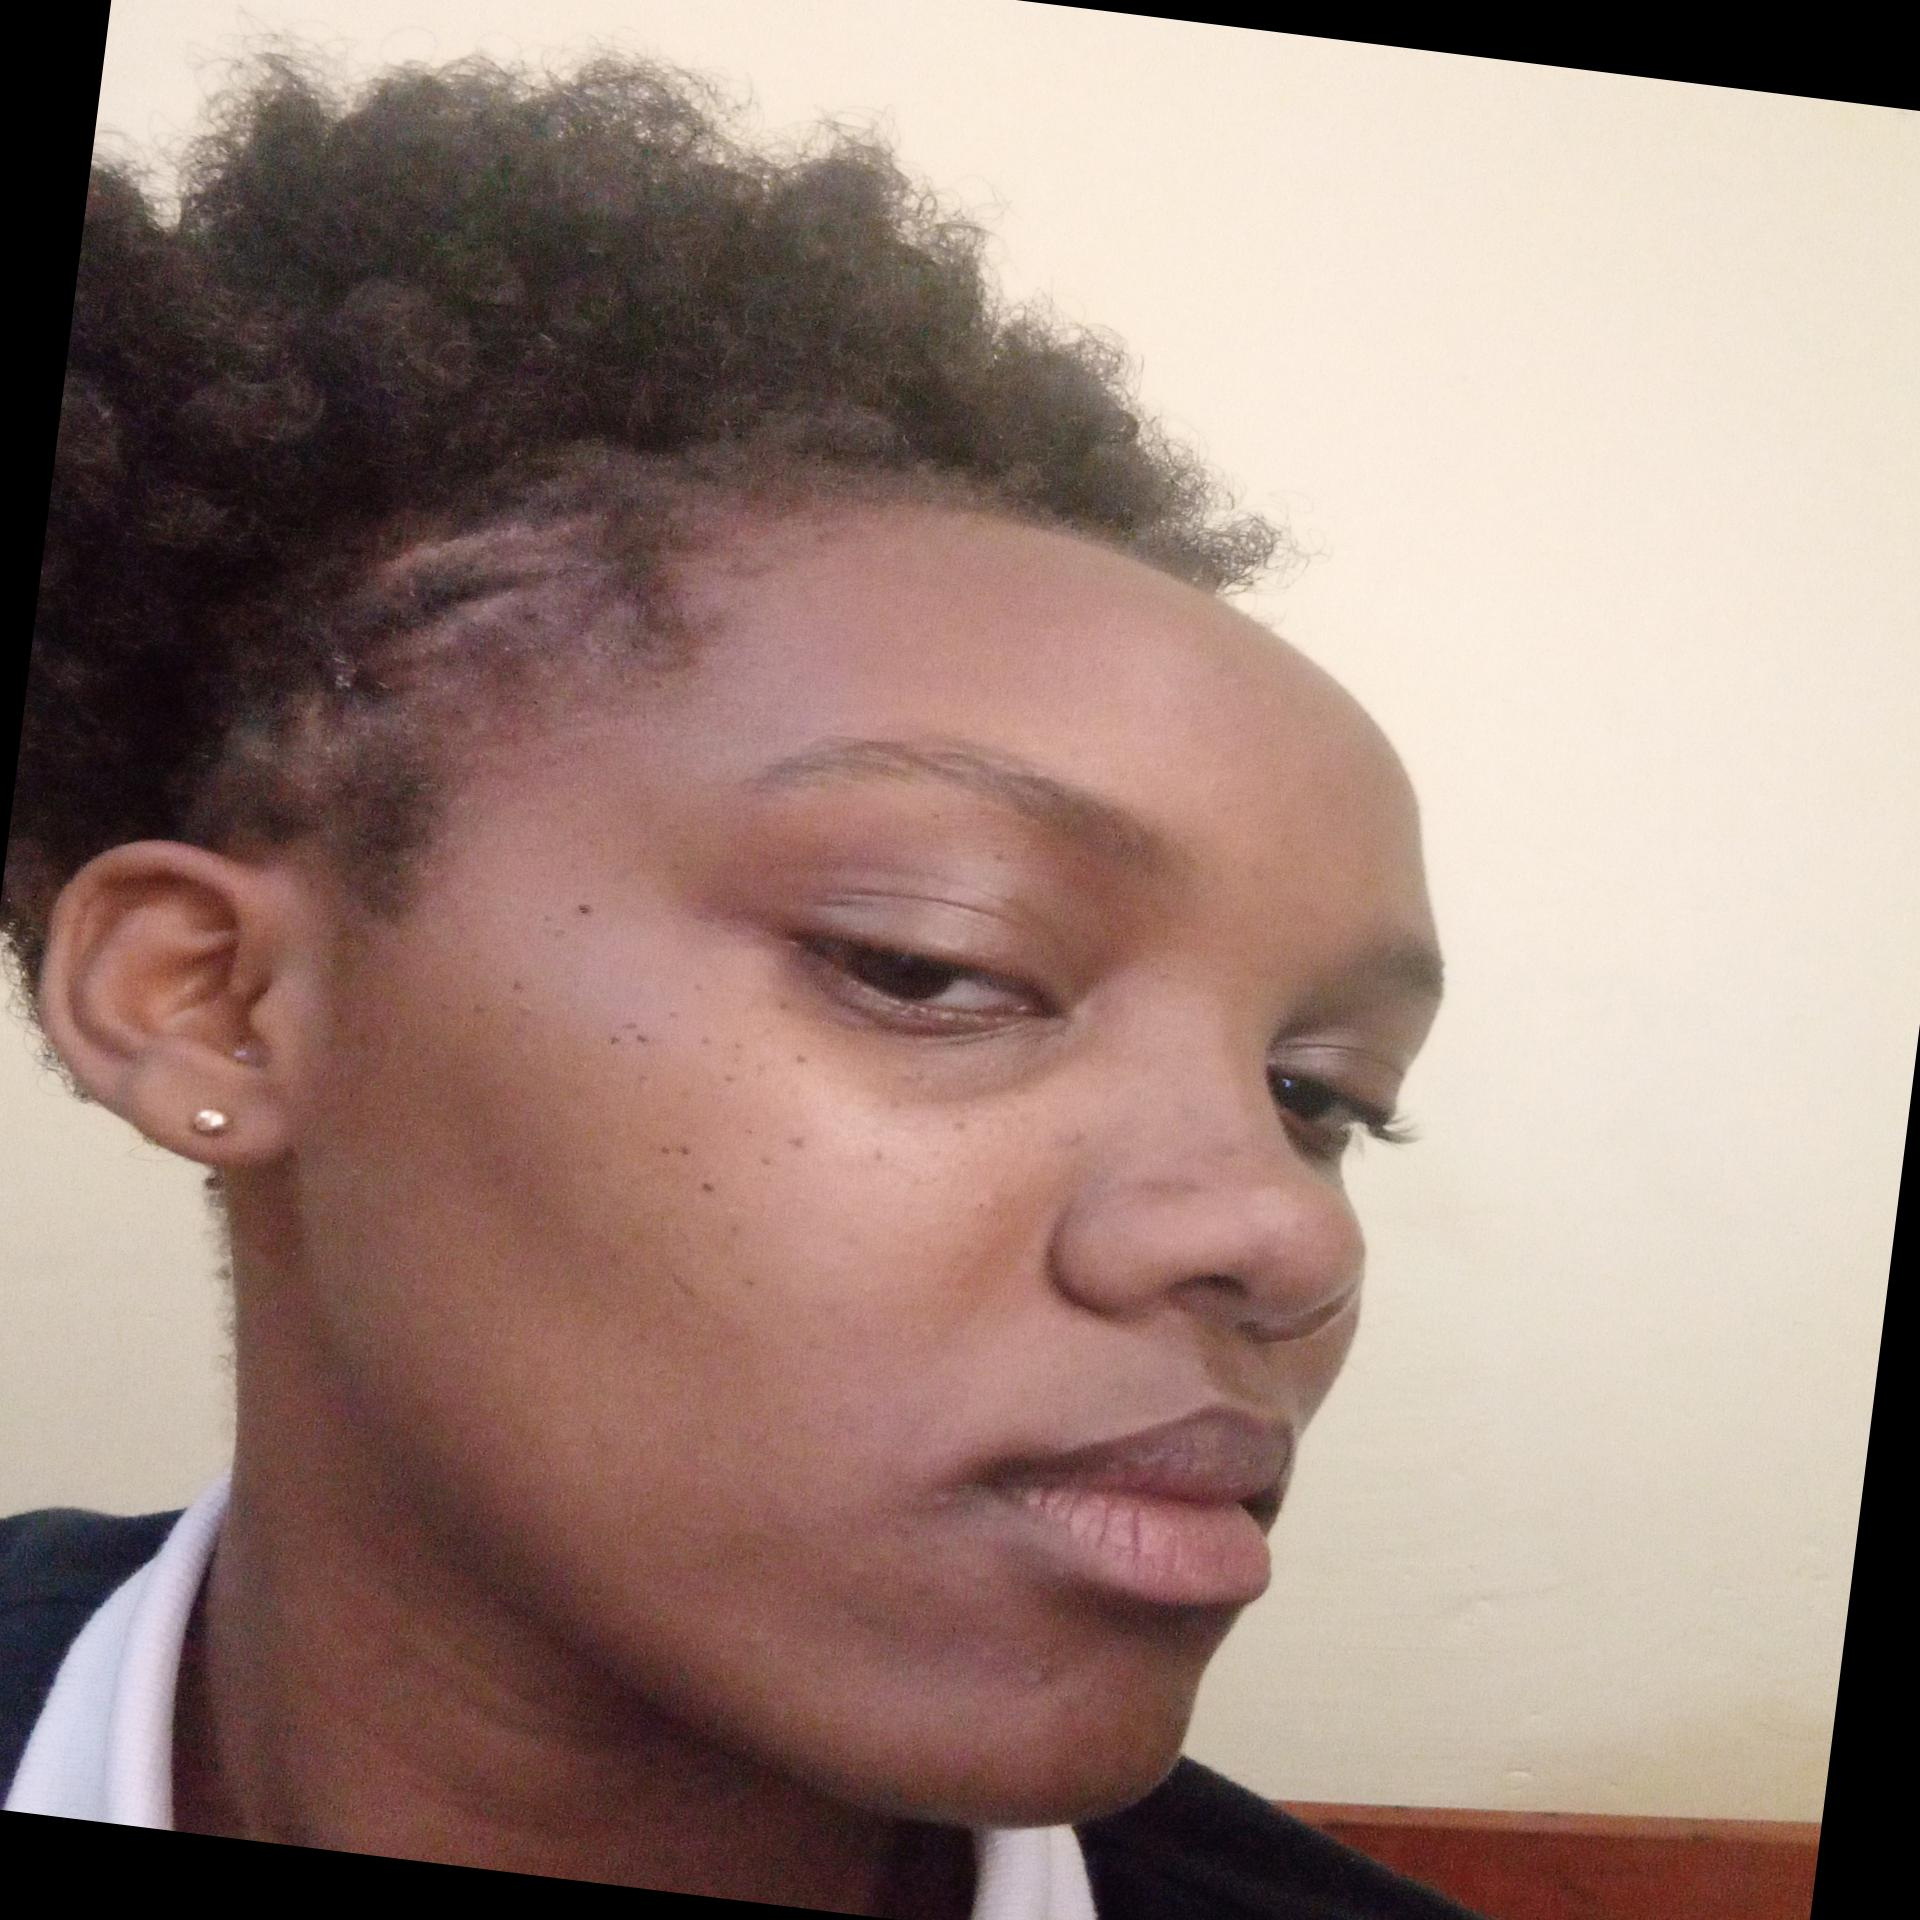Acne: (1018, 1658, 1078, 1707)
Dark Circles: (742, 955, 1115, 1127)
